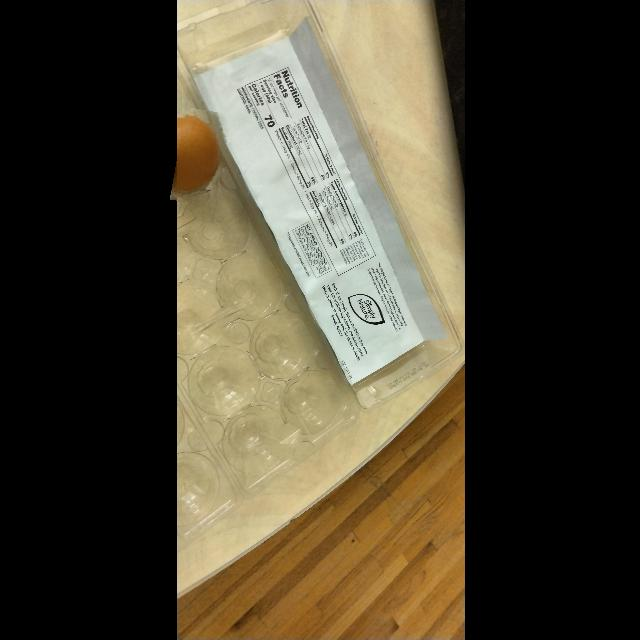Egg: (172, 108, 226, 206)
